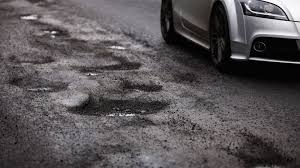pothole: (71, 93, 178, 123), (6, 64, 73, 94), (12, 12, 72, 43), (76, 59, 154, 76)
